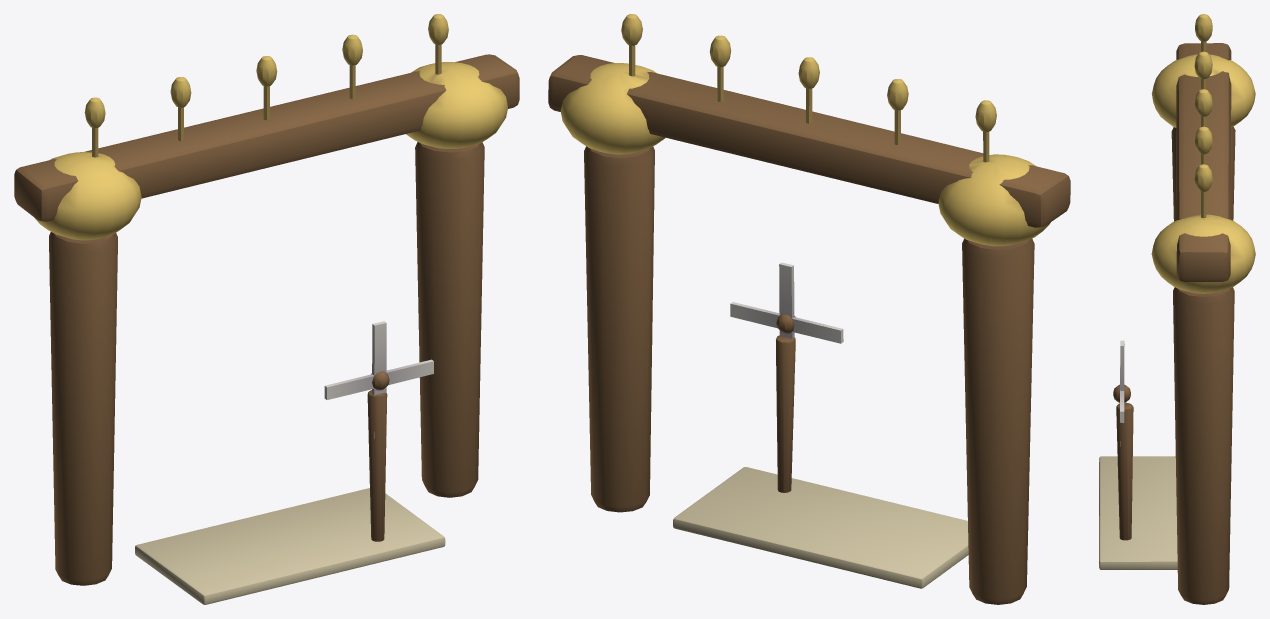
3 views of the same model, side by side, from view 1: azimuth 30°, elevation 25°; view 2: azimuth 150°, elevation 25°; view 3: azimuth 270°, elevation 25° (orthographic). The views are drawn at different scales.
Visible parts, largest first — view 1: gate_f1e745d0; view 2: gate_f1e745d0; view 3: gate_f1e745d0.
Boxes of the visible parts, x1=… form: gate_f1e745d0: x1=14, y1=14, x2=519, y2=604; gate_f1e745d0: x1=548, y1=14, x2=1070, y2=604; gate_f1e745d0: x1=1099, y1=14, x2=1255, y2=604.
Bounding box in the file's own units: 4.78 × 4.53 × 1.5.
